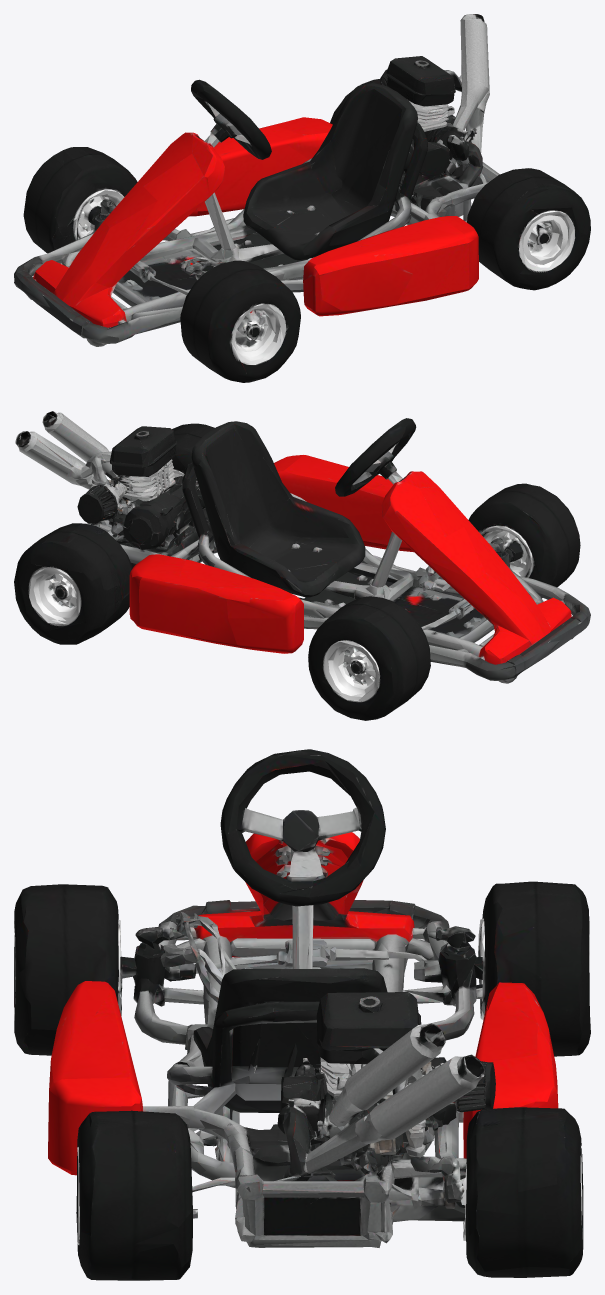
File: k_red.glb
The picture shows the model from 3 angles, top to bottom: view 1: azimuth 30°, elevation 25°; view 2: azimuth 150°, elevation 25°; view 3: azimuth 270°, elevation 25°; orthographic projection. The views are drawn at different scales.
Bounding box in the file's own units: 1.9 × 0.8158 × 1.28.
Materials: 1 (1 with a texture image).
